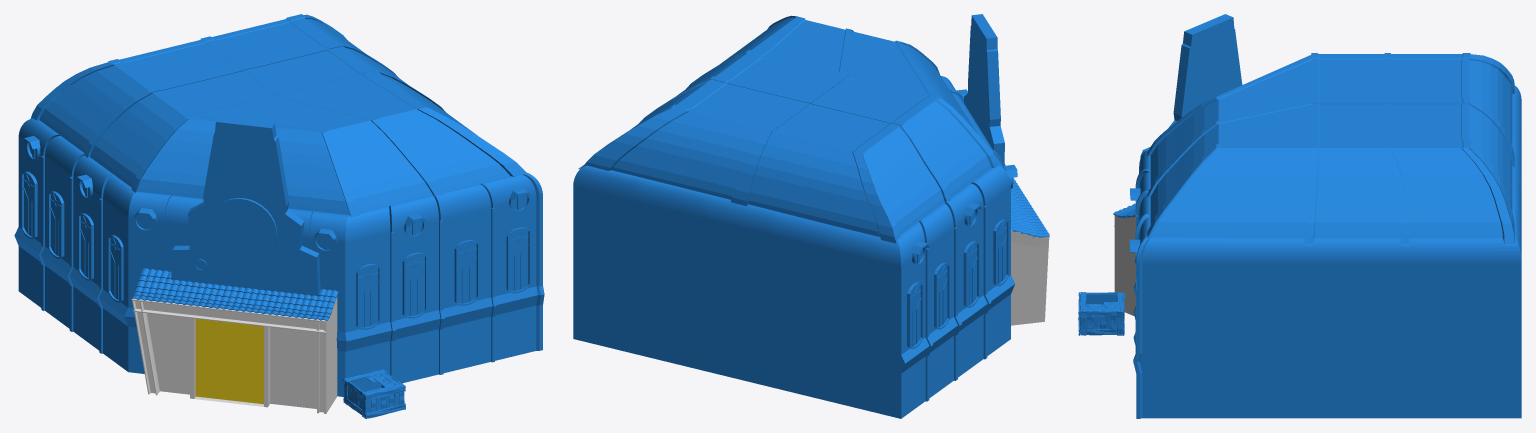
Rendered from bar.fbx.
3 renders of one model, left to right at view 1: azimuth 30°, elevation 25°; view 2: azimuth 150°, elevation 25°; view 3: azimuth 270°, elevation 25°, orthographic.
Parts seen in each view (by area): view 1: Bar; view 2: Bar; view 3: Bar.
Part boxes in pixels (x1,y1,x2,y2): Bar: (14, 14, 544, 418); Bar: (573, 14, 1049, 418); Bar: (1078, 14, 1521, 418).
Bounding box in the file's own units: 1366 × 986 × 1483.
